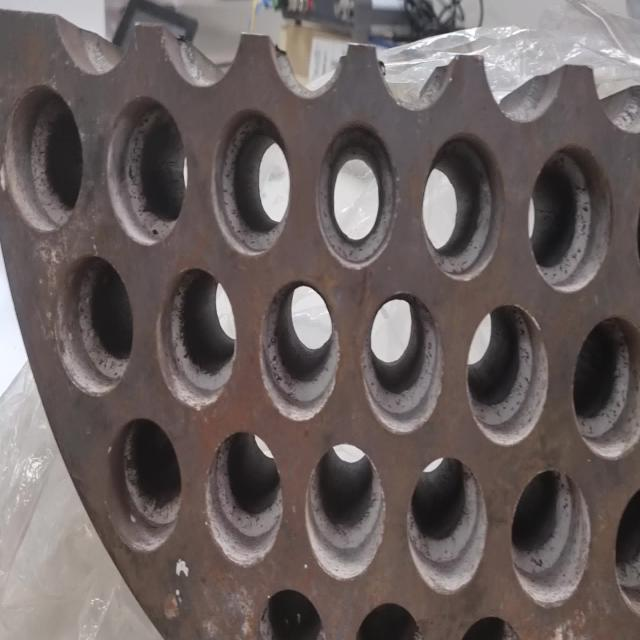Hole: (528, 145, 613, 294), (105, 96, 188, 247), (314, 120, 398, 268), (2, 84, 84, 234), (210, 109, 292, 257), (422, 131, 502, 282), (466, 302, 549, 446), (360, 293, 444, 435), (259, 279, 340, 422), (54, 253, 134, 397), (156, 266, 236, 410), (406, 456, 488, 596), (304, 442, 386, 582), (511, 466, 591, 608), (204, 428, 284, 568), (108, 415, 183, 553), (570, 314, 640, 460), (258, 586, 330, 640), (614, 481, 640, 623), (350, 600, 428, 640), (444, 614, 526, 640)
